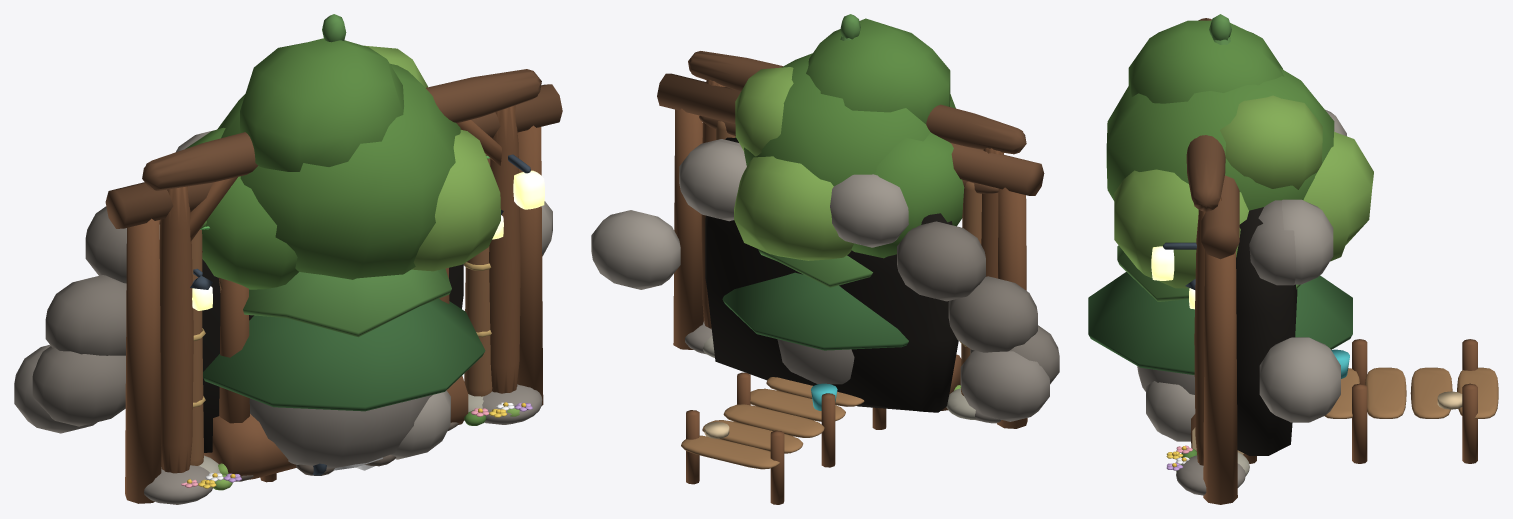
File: granja_monte.glb
The picture shows the model from 3 angles, left to right: view 1: azimuth 30°, elevation 25°; view 2: azimuth 150°, elevation 25°; view 3: azimuth 270°, elevation 25°; orthographic projection. The views are drawn at different scales.
Parts seen in each view (by area): view 1: copa roble 0, piso pino 0, puntal -1, puntal túnel -1, roca boca 2, piso pino 1, travesaño mina, roca grande, copa roble 1, piedra puntal -1, marco tablero, viga túnel (+7 smaller); view 2: copa roble 0, hueco mina, roca boca 1, copa roble 1, roca boca 2, piso pino 0, puntal túnel -1, tabla muelle 0, piedra puntal -1, viga túnel, travesaño mina, pilote -0.550 (+6 smaller); view 3: copa roble 0, copa roble 1, piso pino 0, roca boca 1, hueco mina, puntal túnel -1, tabla muelle 0, piedra puntal -1, pilote -0.550, travesaño mina, roca grande b, puntal -1 (+4 smaller).
Part boxes in pixels (left/top/right/bottom): copa roble 0: left=185, top=38, right=460, bottom=289; piso pino 0: left=203, top=299, right=485, bottom=411; puntal -1: left=159, top=105, right=520, bottom=473; puntal túnel -1: left=125, top=125, right=543, bottom=503; roca boca 2: left=32, top=206, right=159, bottom=426; piso pino 1: left=243, top=14, right=451, bottom=337; travesaño mina: left=142, top=69, right=541, bottom=190; roca grande: left=249, top=395, right=432, bottom=468; copa roble 1: left=364, top=45, right=500, bottom=271; piedra puntal -1: left=14, top=344, right=542, bottom=504; marco tablero: left=190, top=155, right=492, bottom=465; viga túnel: left=105, top=84, right=562, bottom=228; copa roble 0: left=744, top=18, right=964, bottom=258; hueco mina: left=705, top=137, right=958, bottom=412; roca boca 1: left=591, top=141, right=908, bottom=289; copa roble 1: left=734, top=67, right=853, bottom=260; roca boca 2: left=897, top=221, right=1059, bottom=384; piso pino 0: left=722, top=272, right=908, bottom=350; puntal túnel -1: left=673, top=108, right=1027, bottom=428; tabla muelle 0: left=681, top=377, right=864, bottom=469; piedra puntal -1: left=685, top=139, right=1049, bottom=423; viga túnel: left=657, top=73, right=1044, bottom=195; travesaño mina: left=688, top=51, right=1026, bottom=154; pilote -0.550: left=686, top=372, right=886, bottom=504; copa roble 0: left=1106, top=20, right=1334, bottom=210; copa roble 1: left=1114, top=95, right=1373, bottom=288; piso pino 0: left=1088, top=272, right=1352, bottom=374; roca boca 1: left=1259, top=109, right=1346, bottom=422; hueco mina: left=1236, top=207, right=1297, bottom=455; puntal túnel -1: left=1203, top=250, right=1237, bottom=504; tabla muelle 0: left=1324, top=367, right=1498, bottom=418; piedra puntal -1: left=1176, top=200, right=1296, bottom=495; pilote -0.550: left=1243, top=339, right=1477, bottom=463; travesaño mina: left=1186, top=18, right=1225, bottom=211; roca grande b: left=1146, top=381, right=1195, bottom=441; puntal -1: left=1194, top=197, right=1221, bottom=465.
Bounding box in the file's own units: 5.82 × 4.88 × 4.28.
